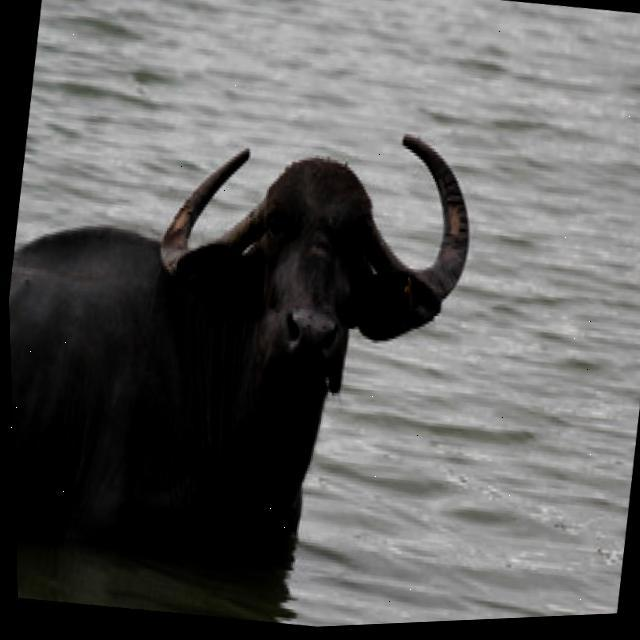Buffalo: (3, 72, 494, 602)
